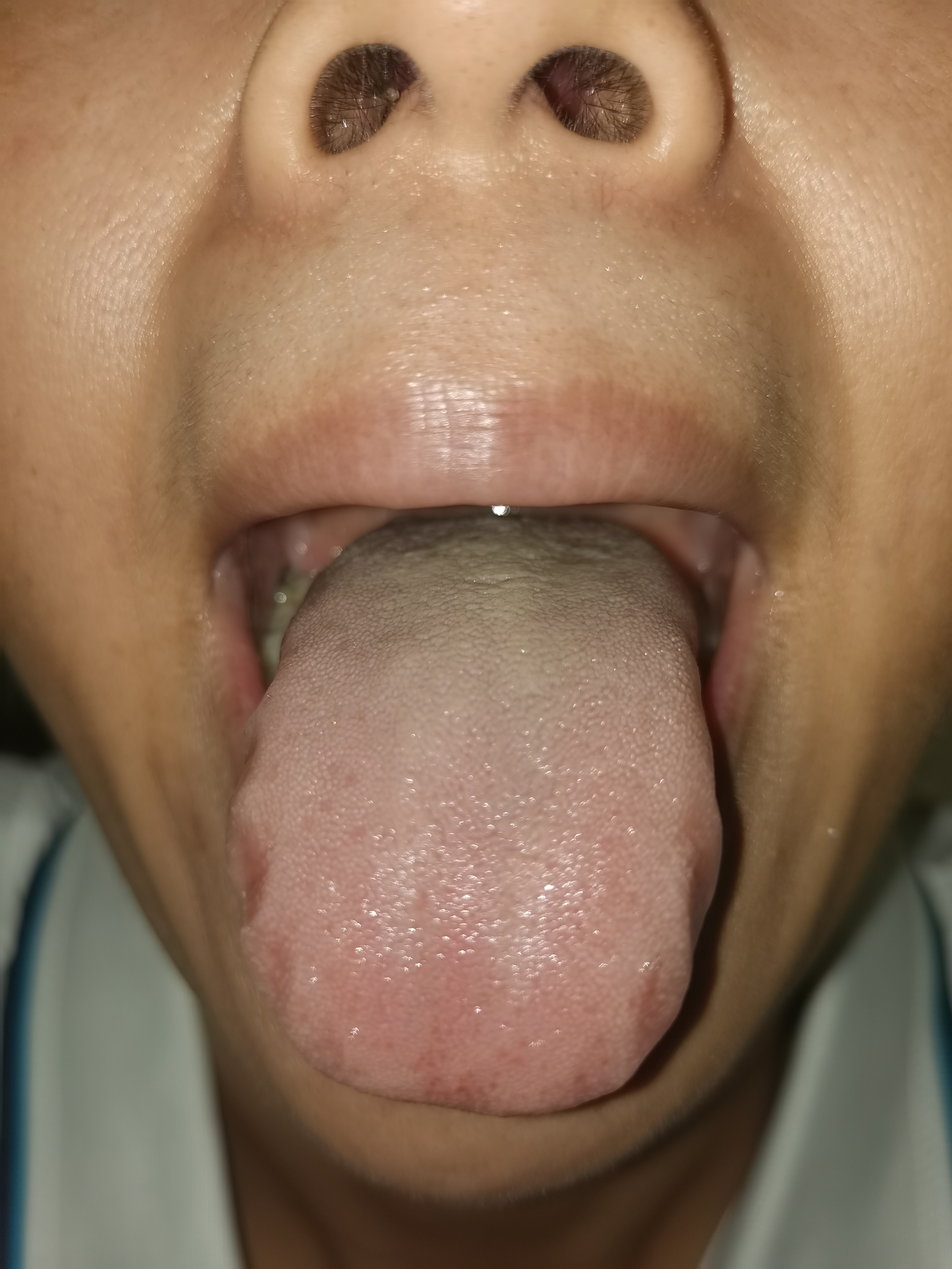baitaishe: (228, 510, 720, 1120)
chihenshe: (626, 835, 722, 1071), (230, 802, 295, 1029)
